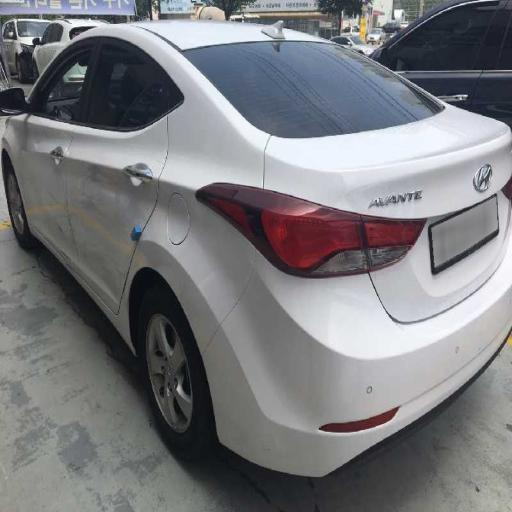dent: (62, 77, 364, 334)
